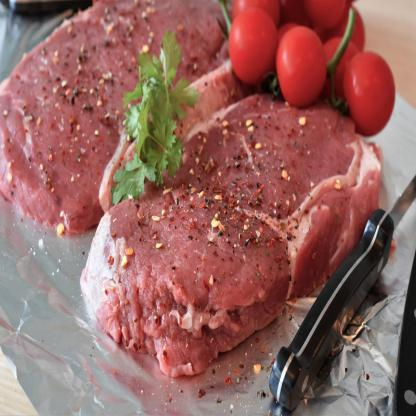beef: (92, 88, 380, 368), (0, 0, 230, 226)
tomato: (342, 50, 396, 138), (226, 6, 276, 84), (281, 26, 325, 104)
